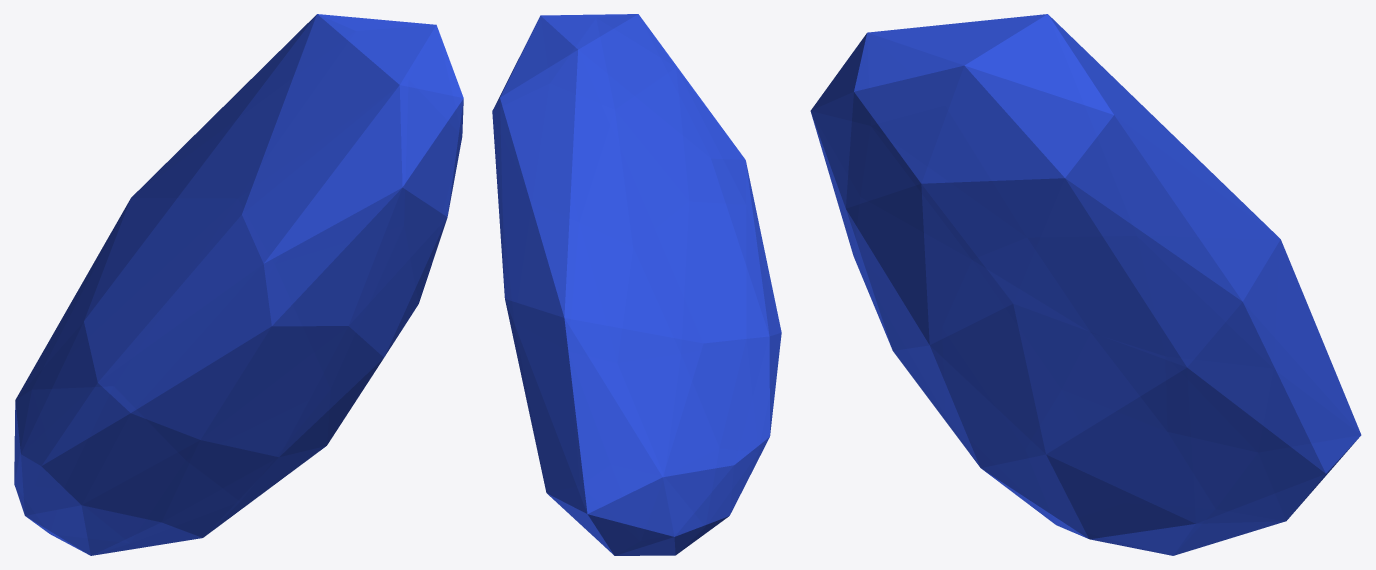
The model's file is WindstoneParticle.fbx.
The picture shows the model from 3 angles, left to right: view 1: azimuth 30°, elevation 25°; view 2: azimuth 150°, elevation 25°; view 3: azimuth 270°, elevation 25°; orthographic projection. The views are drawn at different scales.
Parts seen in each view (by area): view 1: WindstoneParticle; view 2: WindstoneParticle; view 3: WindstoneParticle.
Part boxes in pixels (x1=…): WindstoneParticle: x1=14, y1=14, x2=463, y2=555; WindstoneParticle: x1=492, y1=14, x2=781, y2=555; WindstoneParticle: x1=810, y1=14, x2=1361, y2=555.
Size of the model in its own units: 1.1 by 1.59 by 1.29.
